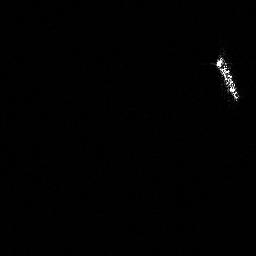ship: (211, 54, 242, 103)
